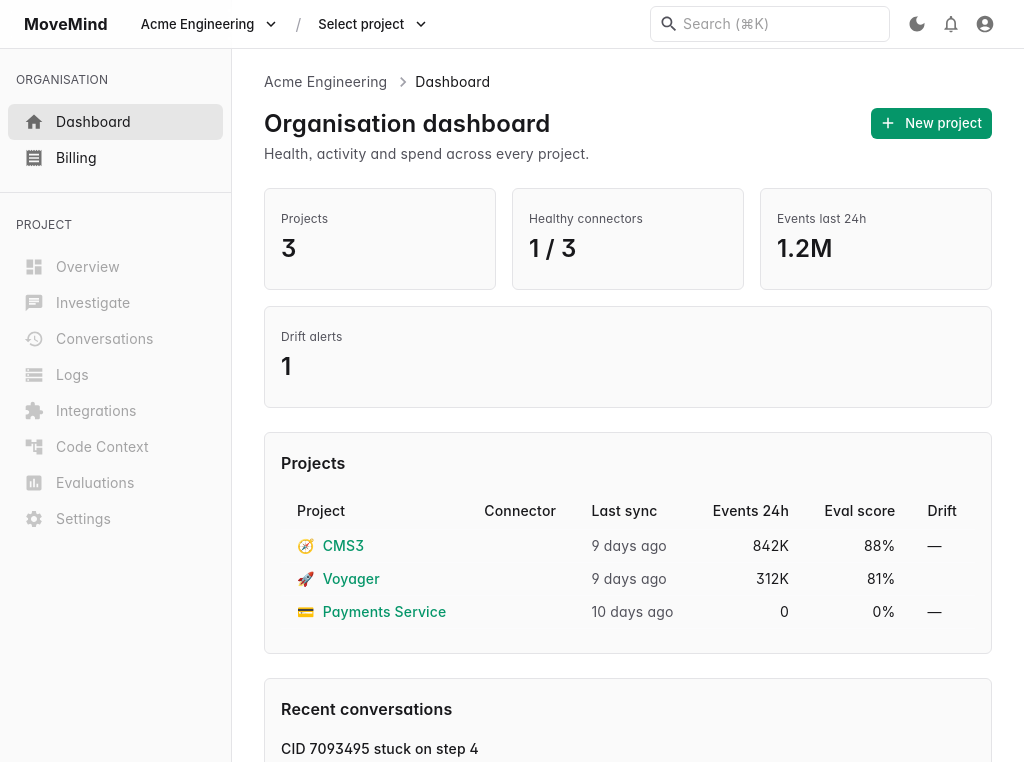
it: OrgSwitcher › opens the org menu on button click
Click the button "Acme Engineering" at (210, 24), box [136,9,283,39]
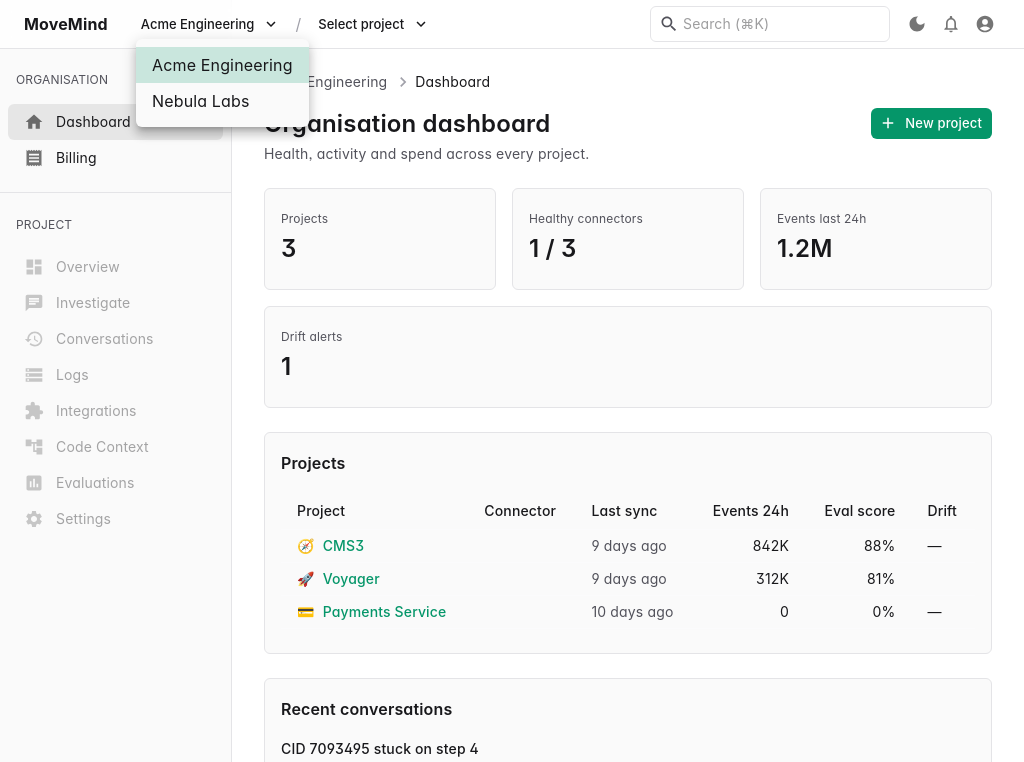
Expected: the menu is shown, [136,39,309,127]
